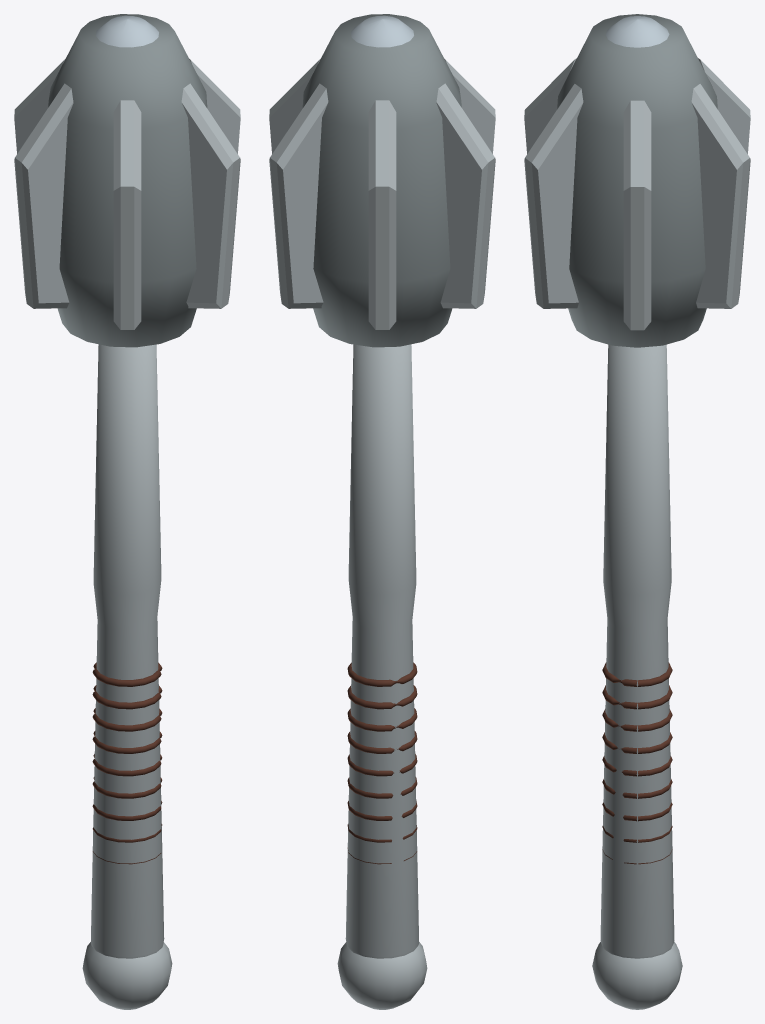
The model's file is cleric-mace-standard.glb.
The picture shows the model from 3 angles, left to right: view 1: azimuth 30°, elevation 25°; view 2: azimuth 150°, elevation 25°; view 3: azimuth 270°, elevation 25°; orthographic projection.
Visible parts, largest first — view 1: cleric-mace__standard; view 2: cleric-mace__standard; view 3: cleric-mace__standard.
Part boxes in pixels (x1=…): cleric-mace__standard: x1=14, y1=14, x2=240, y2=1009; cleric-mace__standard: x1=269, y1=14, x2=495, y2=1009; cleric-mace__standard: x1=524, y1=14, x2=750, y2=1009.
Size of the model in its own units: 0.184 by 0.794 by 0.1652.
